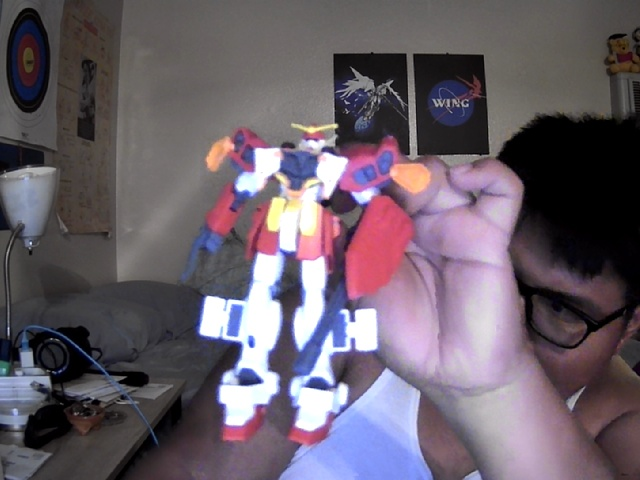Deatharms: (180, 122, 429, 447)
